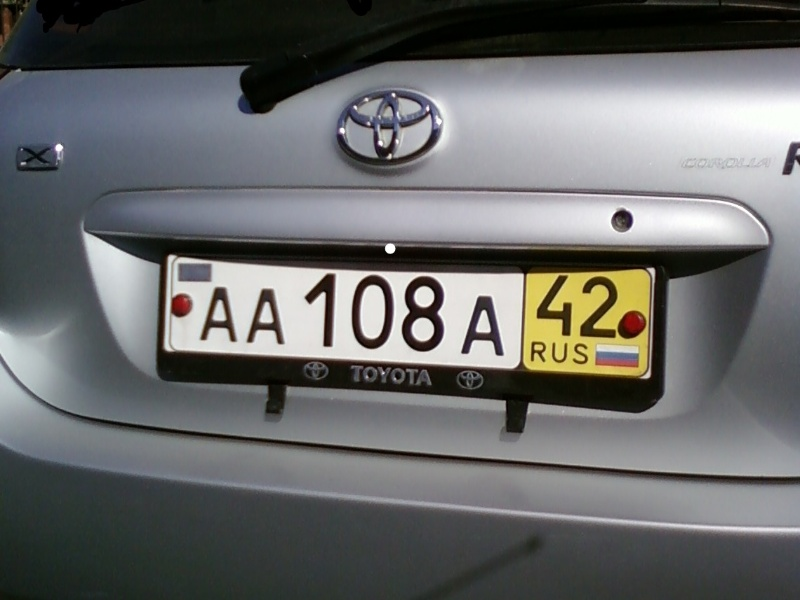car: (1, 1, 800, 600)
plate: (162, 251, 655, 381)
